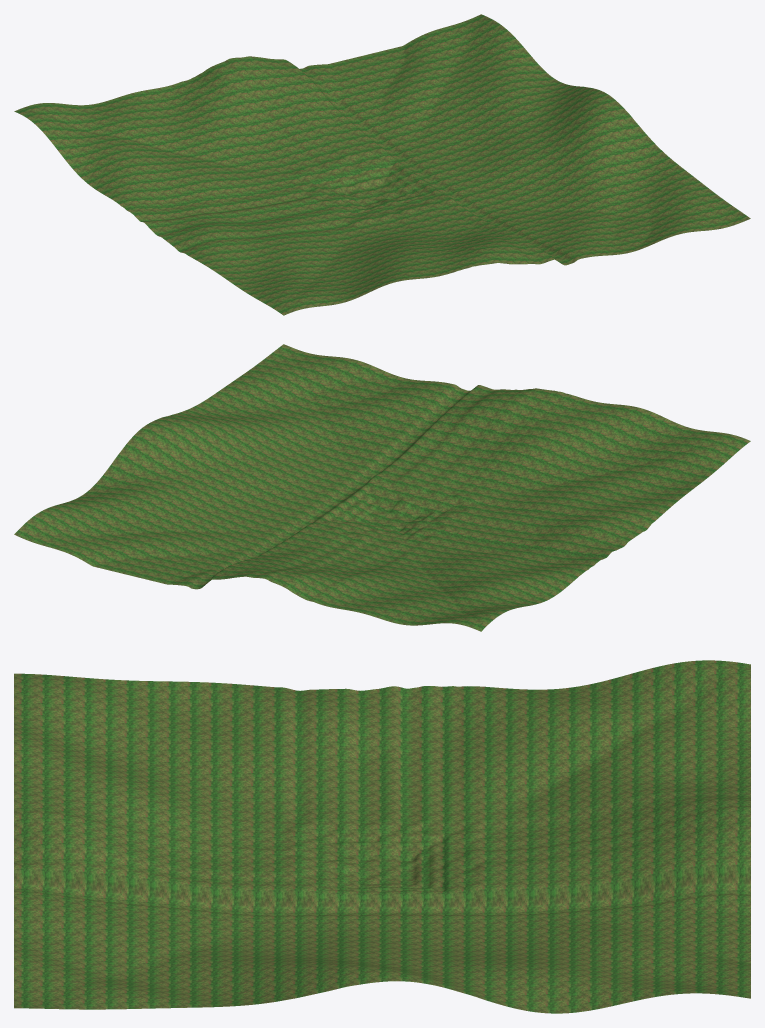
File: terrain_quarry.glb
The picture shows the model from 3 angles, top to bottom: view 1: azimuth 30°, elevation 25°; view 2: azimuth 150°, elevation 25°; view 3: azimuth 270°, elevation 25°; orthographic projection. The views are drawn at different scales.
Parts seen in each view (by area): view 1: terrain_hills; view 2: terrain_hills; view 3: terrain_hills.
Part boxes in pixels (x1,y1,x2,y2): terrain_hills: (14,14,750,315); terrain_hills: (14,344,750,631); terrain_hills: (14,660,750,1013).
Bounding box in the file's own units: 280 × 26.32 × 280.
Materials: 1 (1 with a texture image).
